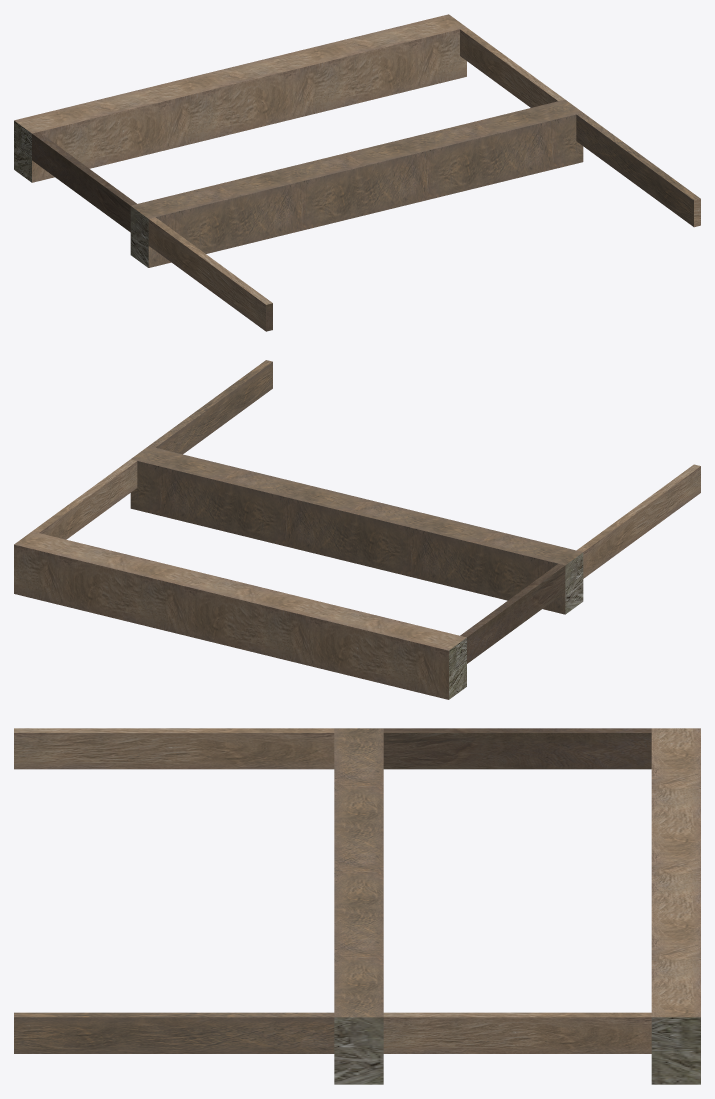
Rendered from RafterCenterEndG.fbx.
3 renders of one model, top to bottom at view 1: azimuth 30°, elevation 25°; view 2: azimuth 150°, elevation 25°; view 3: azimuth 270°, elevation 25°, orthographic. The views are drawn at different scales.
Parts seen in each view (by area): view 1: RafterCenterEndG; view 2: RafterCenterEndG; view 3: RafterCenterEndG.
Part boxes in pixels (x1,y1,x2,y2): RafterCenterEndG: [14, 14, 700, 331]; RafterCenterEndG: [14, 360, 700, 699]; RafterCenterEndG: [14, 728, 700, 1084].
Bounding box in the file's own units: 374 × 40.53 × 376.
